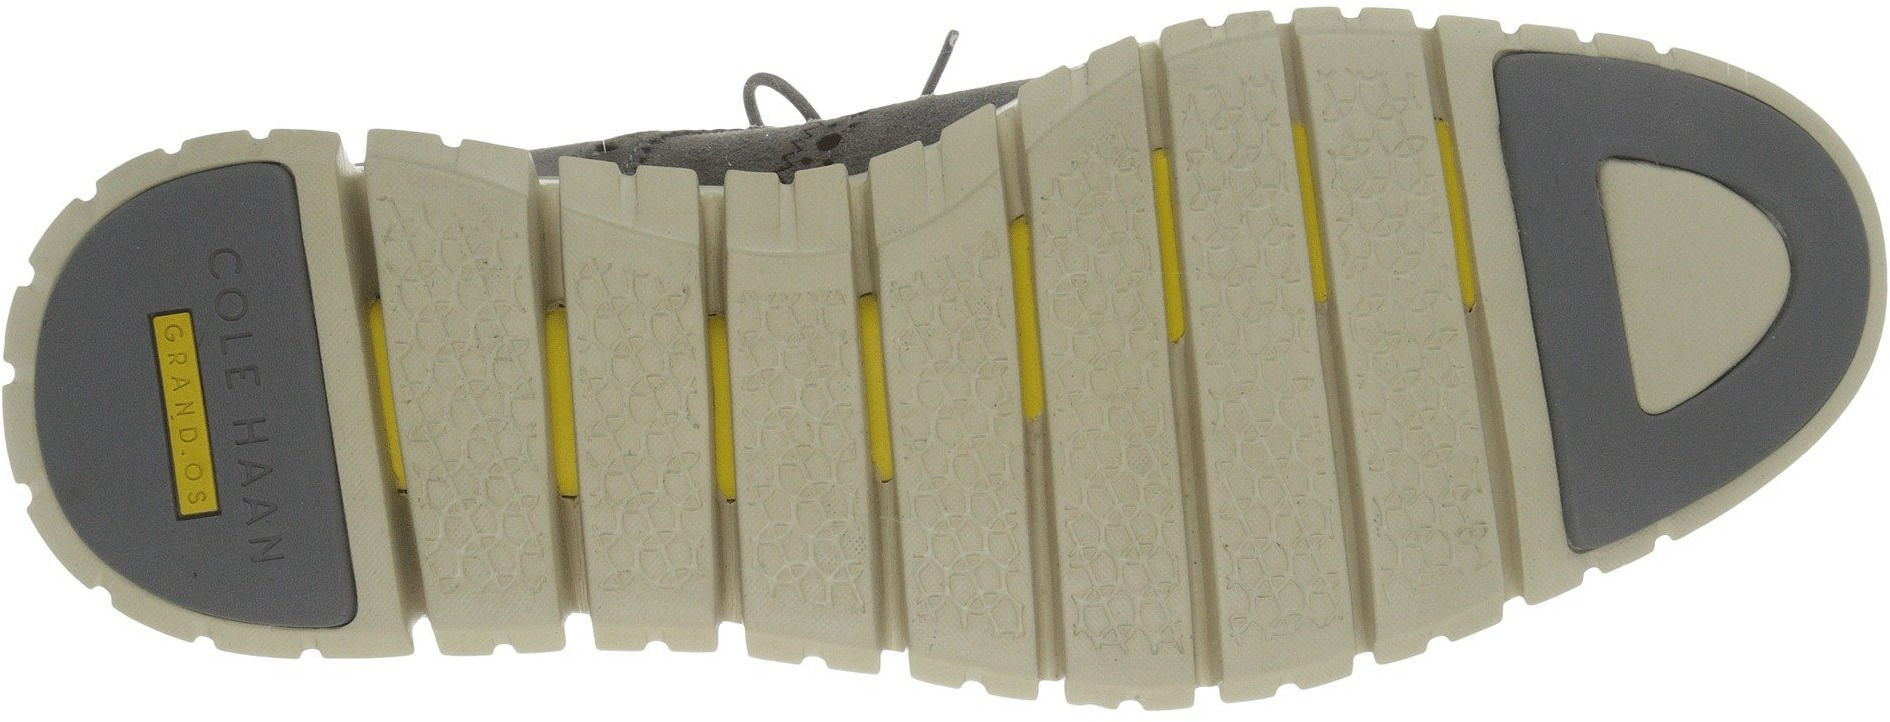circle: (1175, 119, 1491, 419), (879, 278, 1178, 585), (381, 248, 567, 445), (123, 303, 233, 539), (574, 290, 703, 436), (734, 333, 861, 445), (184, 239, 290, 337)
line: (1175, 119, 1491, 419), (879, 278, 1178, 585), (381, 248, 567, 445), (574, 290, 703, 436), (734, 333, 861, 445)
other: (1622, 201, 1769, 342)
quad: (1175, 119, 1491, 419), (879, 278, 1178, 585), (381, 248, 567, 445), (123, 303, 233, 539), (399, 319, 532, 472), (574, 290, 703, 436), (734, 333, 861, 445)
text: (123, 303, 233, 539), (195, 360, 313, 493), (184, 239, 290, 337)
triangle: (1175, 119, 1491, 419), (879, 278, 1178, 585), (381, 248, 567, 445), (395, 315, 534, 476), (574, 290, 703, 436), (734, 333, 861, 445)
